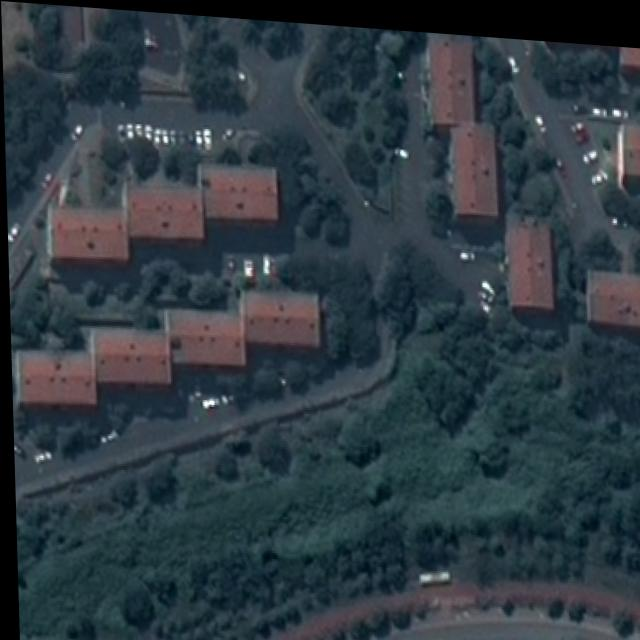Batiment: (450, 117, 497, 206), (505, 212, 551, 300), (201, 161, 277, 213), (428, 27, 471, 117), (585, 261, 640, 317), (616, 115, 640, 185), (619, 36, 640, 75)
